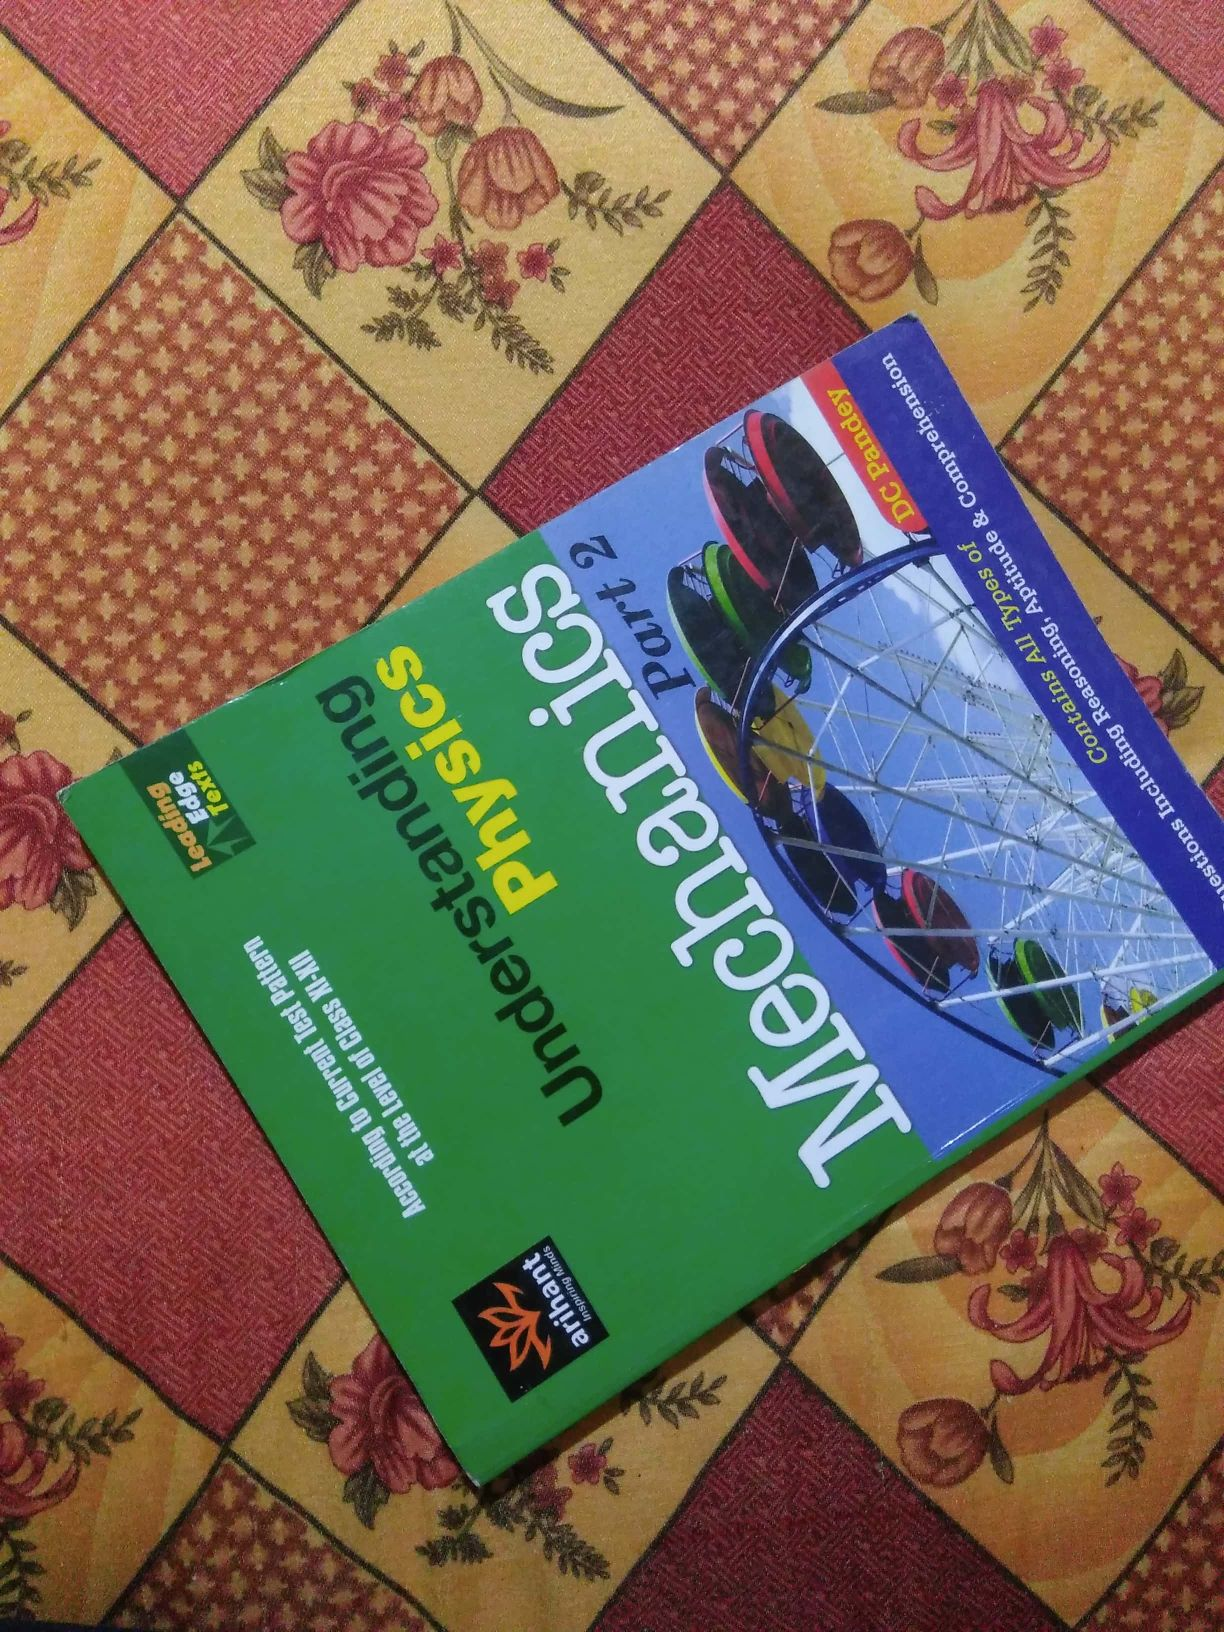mechanics: (93, 400, 1158, 1415)
